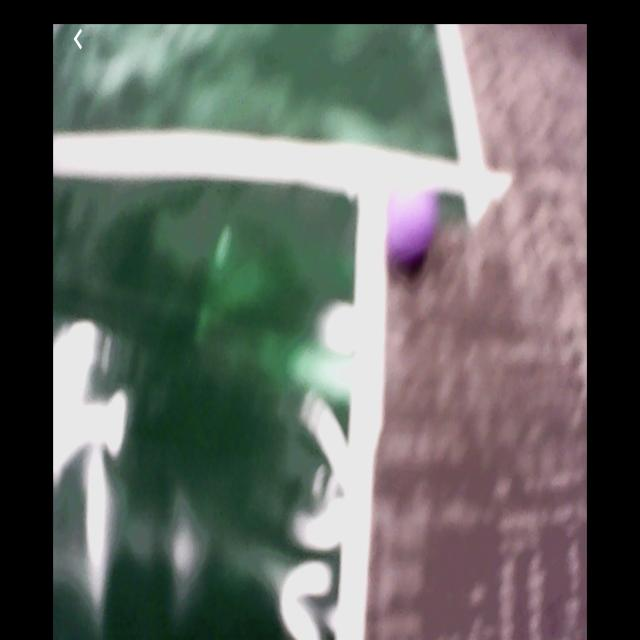ball: (384, 179, 438, 266)
